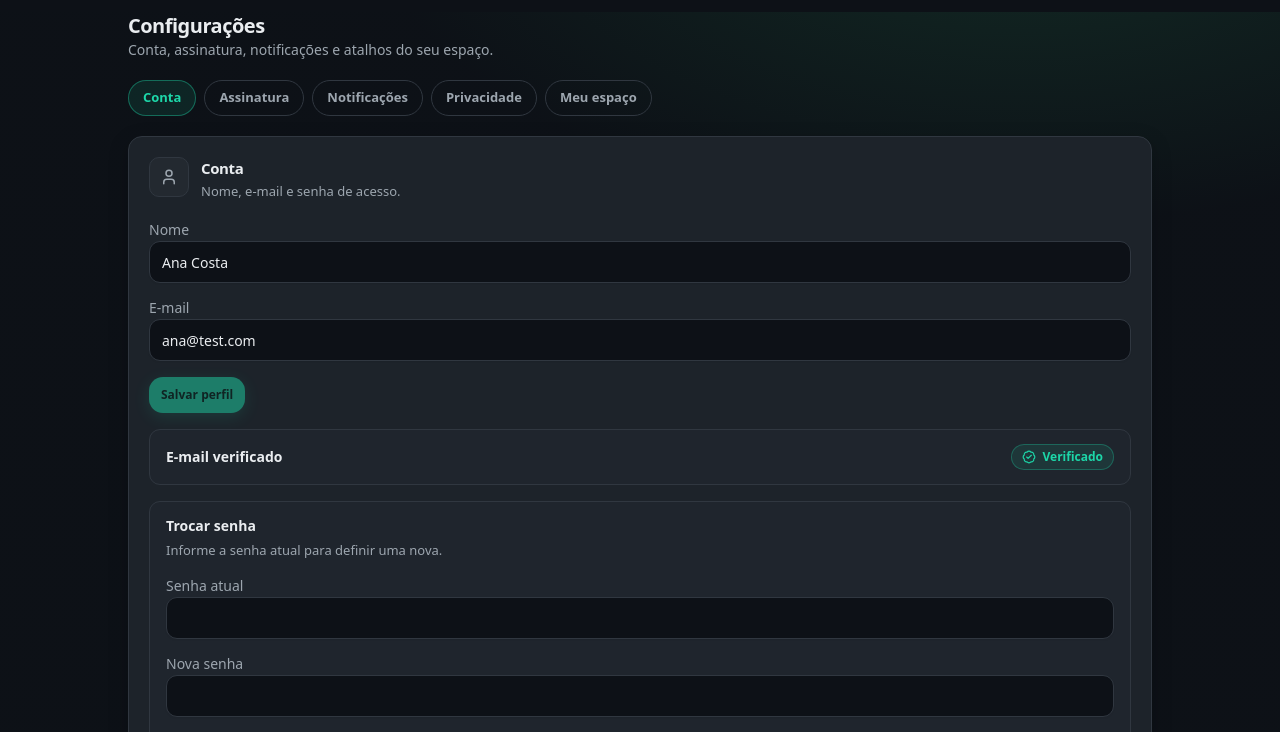
Scenario: CreatorSettingsPage › shows billing section with trial days and marketplace fees
The image size is (1280, 732).
What coordinates should you click on to do the following:
click the button "Assinatura"
I would click on:
 (254, 98)
Its box is [204, 80, 304, 116].
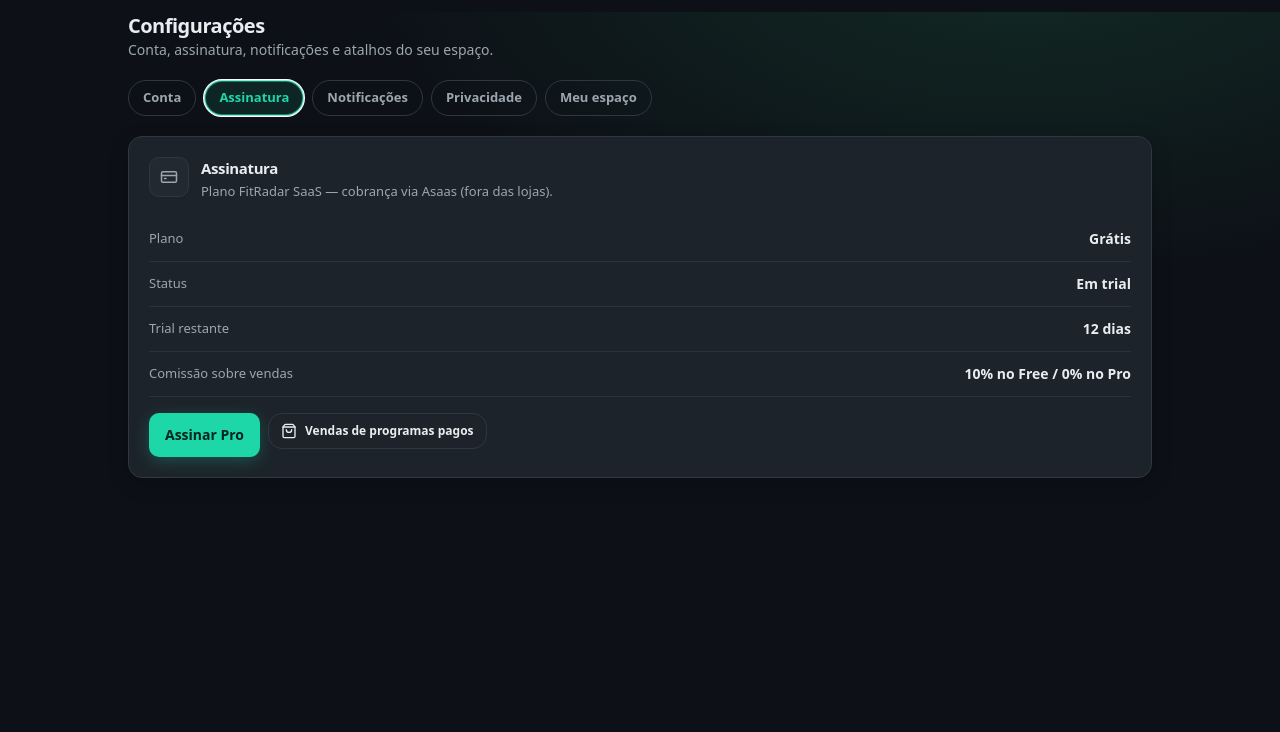
Check: the text "12 dias" is shown, box [1083, 319, 1131, 339]
Check: the text "Comissão sobre vendas" is shown, box [149, 364, 293, 384]
Check: the text "10% no Free / 0% no Pro" is shown, box [964, 364, 1131, 384]
